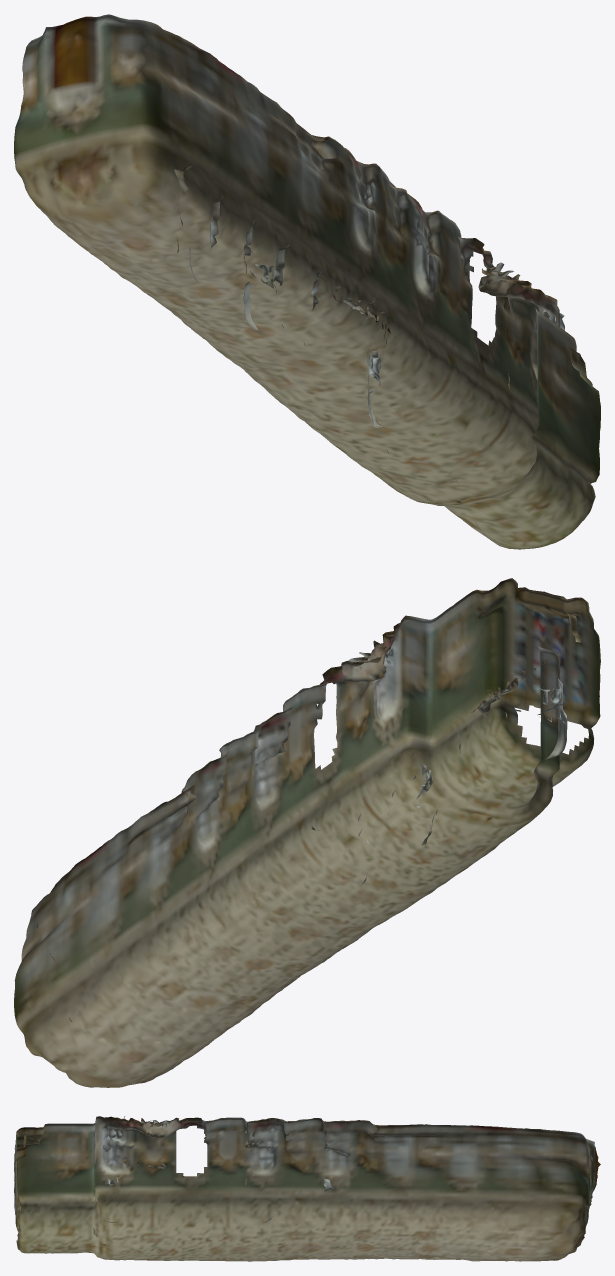
File: abby-museum-collider.glb
3 renders of one model, top to bottom at view 1: azimuth 30°, elevation 25°; view 2: azimuth 150°, elevation 25°; view 3: azimuth 270°, elevation 25°, orthographic. The views are drawn at different scales.
Parts seen in each view (by area): view 1: world; view 2: world; view 3: world.
Part boxes in pixels (x1,y1,x2,y2): world: (14,14,600,549); world: (14,578,600,1087); world: (14,1116,600,1261).
Size of the model in its own units: 3.12 by 2.98 by 13.87.
